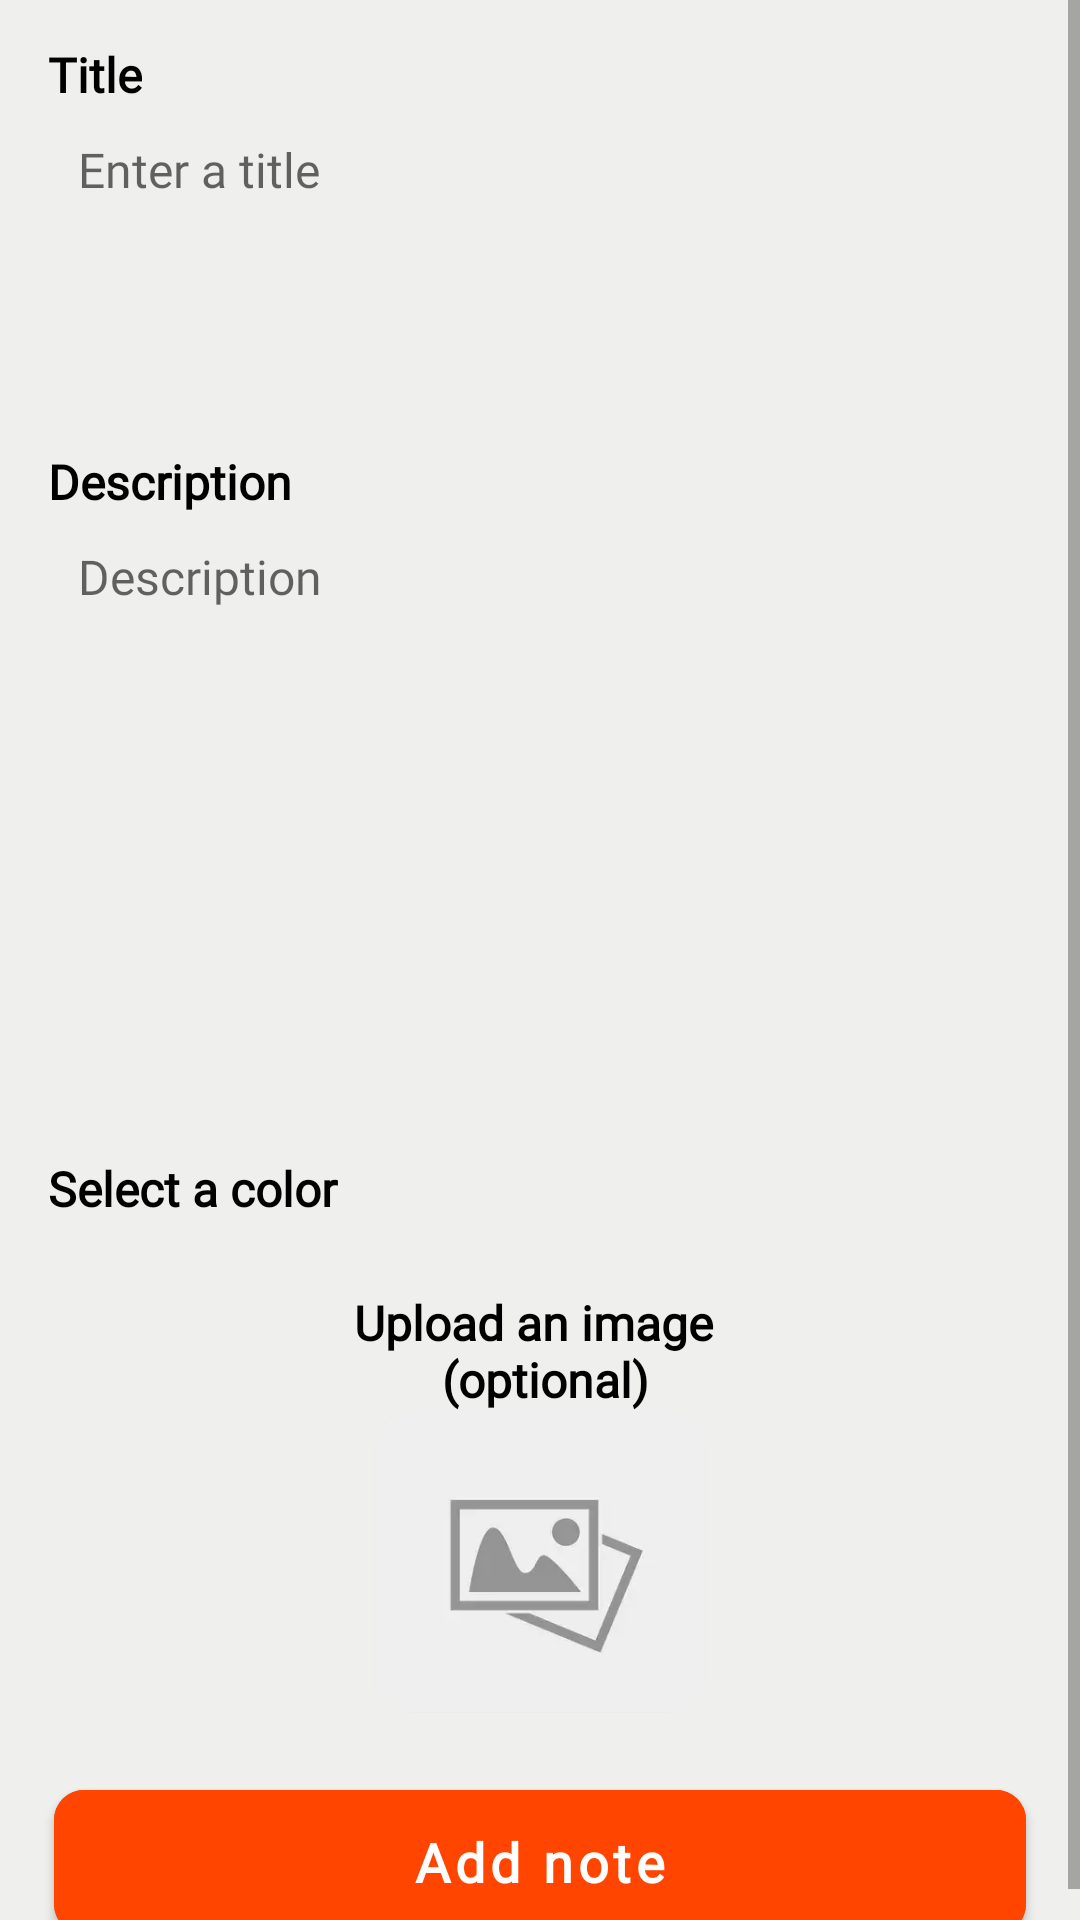

Point at icon controls on the screen. Image size 1080x1920, points as (x=x, y=y).
This is a add image btn: (x=546, y=1576)
